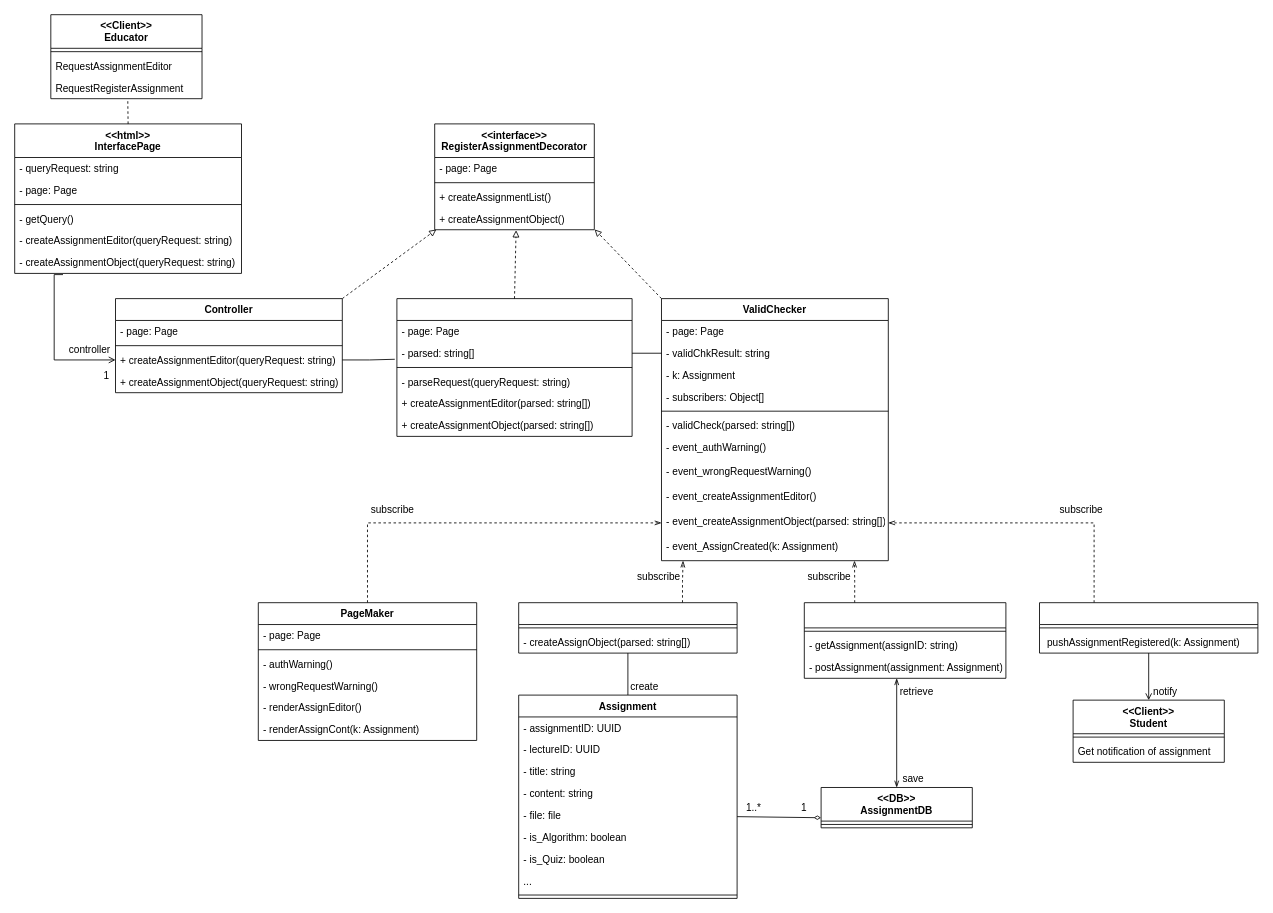
The diagram is 1273 pixels wide and 913 high, and some of its shapes have lost their labels. Here are the shapes that lost their labels. From the top down, the box of each, then its label:
(396, 298, 632, 436): QueryParser
(518, 602, 737, 653): AssignmentMaker
(803, 602, 1006, 678): AssignmentDBConnection
(1039, 602, 1258, 653): Notifier
